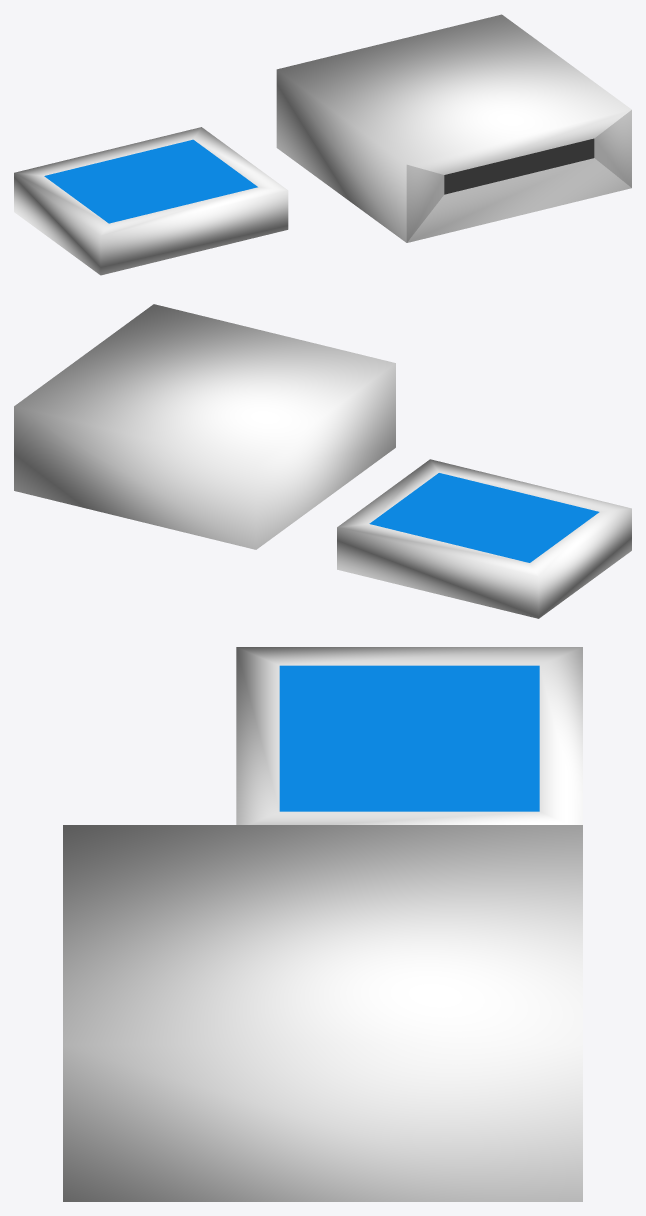
Rendered from ConsoleAlt.fbx.
3 renders of one model, top to bottom at view 1: azimuth 30°, elevation 25°; view 2: azimuth 150°, elevation 25°; view 3: azimuth 270°, elevation 25°, orthographic. The views are drawn at different scales.
Visible parts, largest first — view 1: Cube; view 2: Cube; view 3: Cube.
Part boxes in pixels (<box>): Cube: <box>14,14,631,275</box>; Cube: <box>14,304,631,618</box>; Cube: <box>63,647,582,1201</box>.
Size of the model in its own units: 0.8125 by 0.125 by 0.375.
2 materials, 1 textured.
